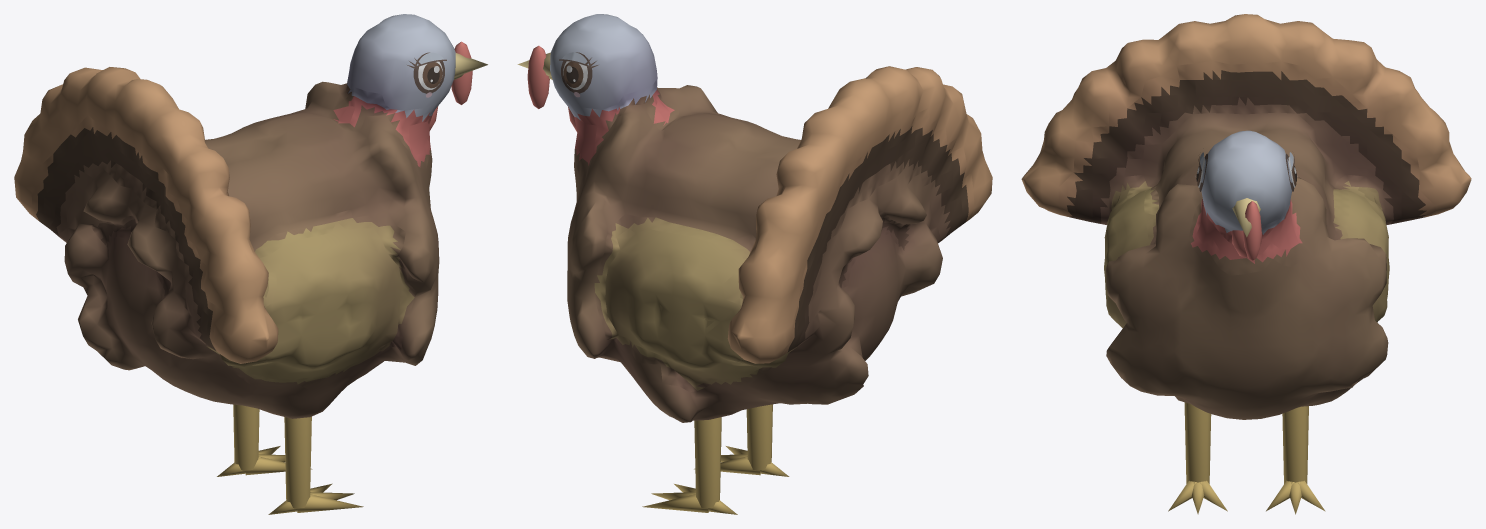
File: wild_turkey.glb
3 renders of one model, left to right at view 1: azimuth 30°, elevation 25°; view 2: azimuth 150°, elevation 25°; view 3: azimuth 270°, elevation 25°, orthographic. The views are drawn at different scales.
Visible parts, largest first — view 1: wild_turkey; view 2: wild_turkey; view 3: wild_turkey.
Boxes of the visible parts, <box> form: wild_turkey: <box>14,14,487,514</box>; wild_turkey: <box>517,14,992,514</box>; wild_turkey: <box>1021,14,1471,514</box>.
Size of the model in its own units: 0.6986 by 0.7722 by 0.7569.
